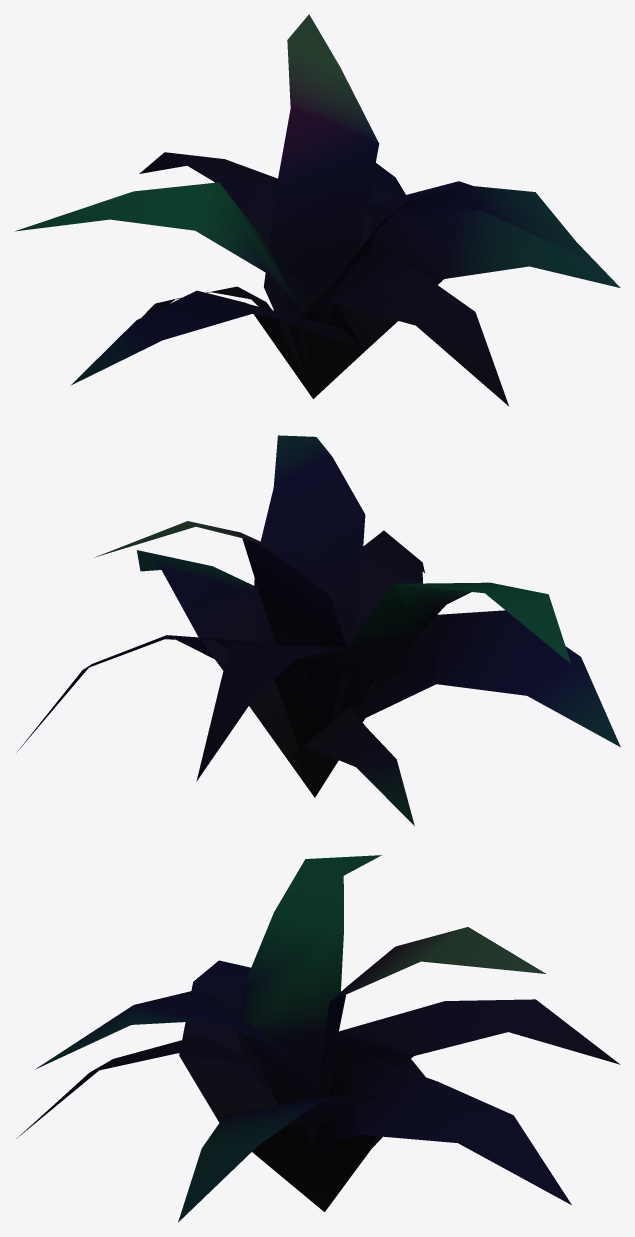
Rendered from Fern_splitted.fbx.
3 renders of one model, top to bottom at view 1: azimuth 30°, elevation 25°; view 2: azimuth 150°, elevation 25°; view 3: azimuth 270°, elevation 25°, orthographic. The views are drawn at different scales.
Visible parts, largest first — view 1: fern_8, fern_1, fern_2, fern_7, fern_9, fern_6, fern_4, fern_5, fern_3; view 2: fern_7, fern_6, fern_4, fern_9, fern_1, fern_8, fern_3, fern_2, fern_5; view 3: fern_9, fern_5, fern_1, fern_4, fern_6, fern_7, fern_8, fern_2.
Boxes of the visible parts, left/top/right/bottom form: fern_8: left=269, top=14, right=379, bottom=309; fern_1: left=336, top=181, right=620, bottom=351; fern_2: left=296, top=251, right=508, bottom=405; fern_7: left=70, top=290, right=363, bottom=398; fern_9: left=15, top=182, right=312, bottom=396; fern_6: left=329, top=185, right=592, bottom=326; fern_4: left=139, top=152, right=312, bottom=397; fern_5: left=359, top=163, right=405, bottom=249; fern_3: left=141, top=286, right=295, bottom=343; fern_7: left=317, top=610, right=620, bottom=790; fern_6: left=252, top=435, right=365, bottom=644; fern_4: left=196, top=643, right=376, bottom=796; fern_9: left=316, top=582, right=570, bottom=795; fern_1: left=136, top=550, right=313, bottom=796; fern_8: left=94, top=521, right=346, bottom=733; fern_3: left=292, top=706, right=414, bottom=825; fern_2: left=317, top=530, right=424, bottom=793; fern_5: left=17, top=635, right=311, bottom=751; fern_9: left=238, top=855, right=381, bottom=1089; fern_5: left=309, top=1061, right=571, bottom=1211; fern_1: left=178, top=1095, right=382, bottom=1222; fern_4: left=327, top=999, right=620, bottom=1195; fern_6: left=35, top=989, right=321, bottom=1149; fern_7: left=179, top=960, right=277, bottom=1122; fern_8: left=319, top=927, right=545, bottom=1098; fern_2: left=16, top=1034, right=294, bottom=1138.
Bounding box in the file's own units: 5.23 × 2.93 × 5.24.
